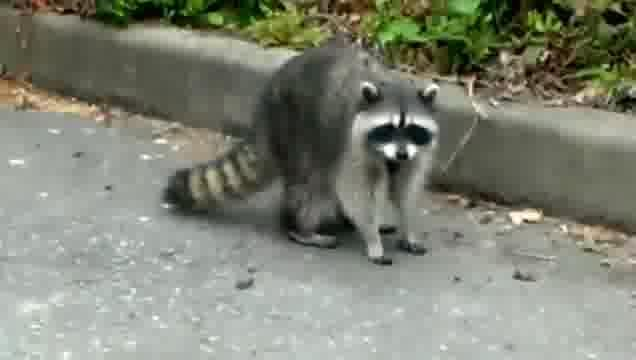raccoon: (163, 36, 442, 268)
